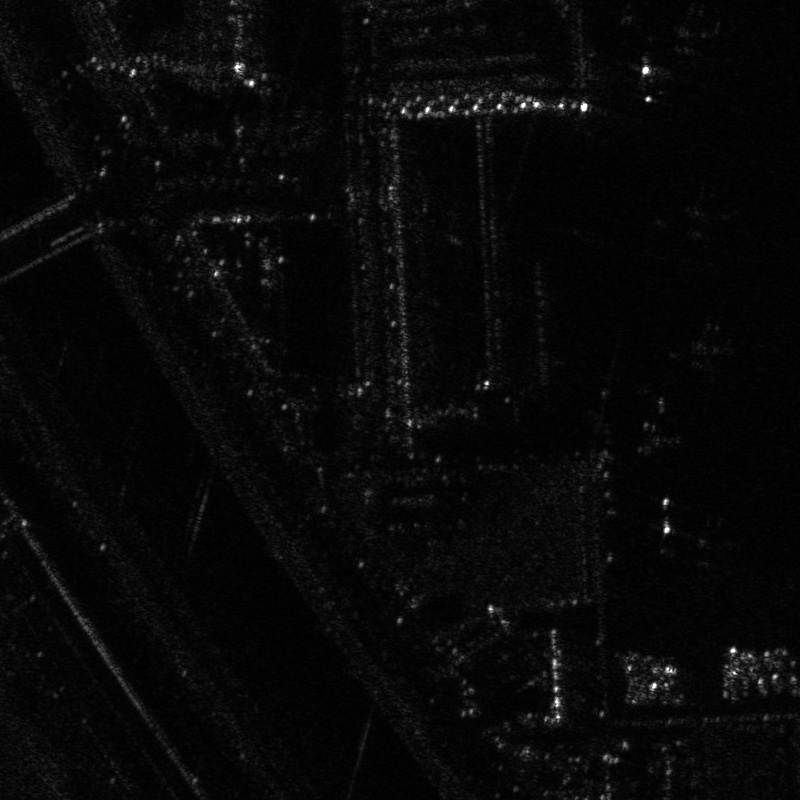A220: (661, 317, 741, 383), (625, 50, 679, 105)
